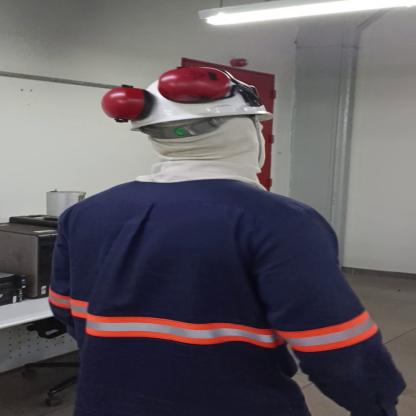Balaclava: (121, 116, 283, 196)
Capacete: (95, 65, 284, 125)
